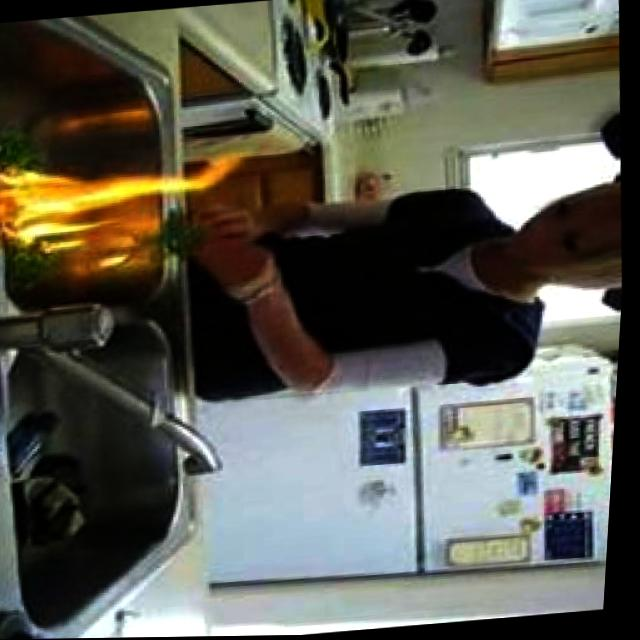Fire: (0, 149, 216, 249)
